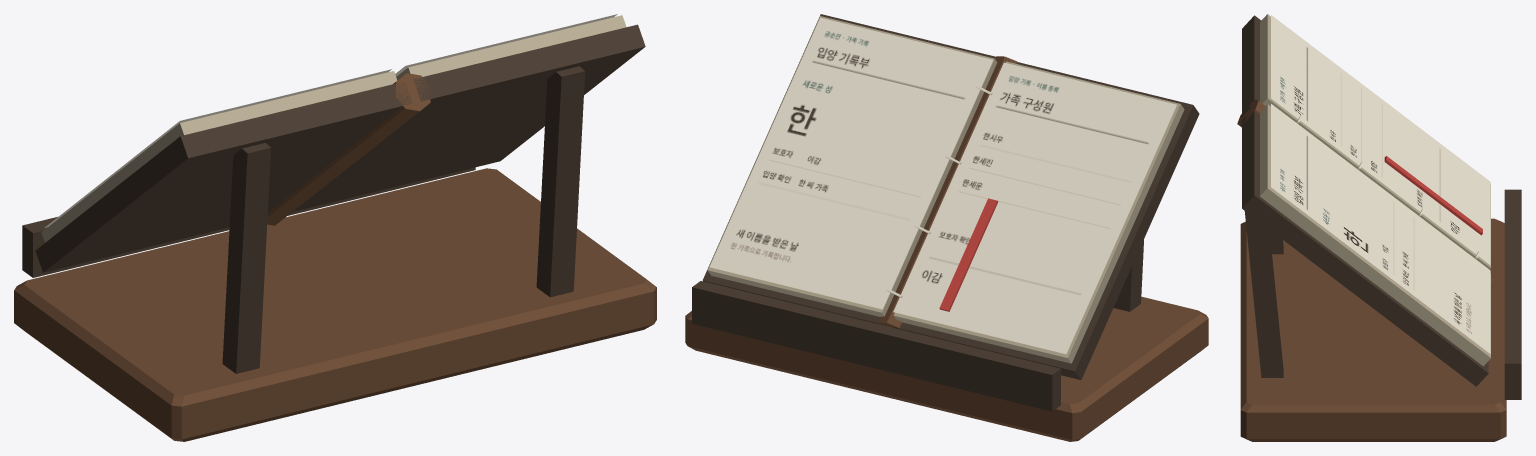
File: C05_Han_Family_Adoption_Ledger.fbx
The picture shows the model from 3 angles, left to right: view 1: azimuth 30°, elevation 25°; view 2: azimuth 150°, elevation 25°; view 3: azimuth 270°, elevation 25°; orthographic projection. The views are drawn at different scales.
Parts seen in each view (by area): view 1: Book_Rest, Ledger_Covers, Ledger_Binding, Front_Adoption_Right, Front_Adoption_Left; view 2: Front_Adoption_Left, Front_Adoption_Right, Book_Rest, Ledger_Covers, Ledger_Binding; view 3: Book_Rest, Front_Adoption_Left, Front_Adoption_Right, Ledger_Covers, Ledger_Binding.
Boxes of the visible parts, box(x1,y1,x2,y2) form: Book_Rest: box(14, 66, 656, 441); Ledger_Covers: box(35, 15, 645, 272); Ledger_Binding: box(267, 73, 430, 225); Front_Adoption_Right: box(44, 69, 391, 227); Front_Adoption_Left: box(395, 14, 617, 76); Front_Adoption_Left: box(710, 17, 993, 309); Front_Adoption_Right: box(893, 62, 1176, 353); Book_Rest: box(685, 240, 1208, 441); Ledger_Covers: box(702, 14, 1199, 379); Ledger_Binding: box(878, 56, 1017, 328); Book_Rest: box(1240, 189, 1521, 441); Front_Adoption_Left: box(1271, 104, 1490, 353); Front_Adoption_Right: box(1271, 15, 1490, 264); Ledger_Covers: box(1242, 14, 1490, 386); Ledger_Binding: box(1237, 99, 1492, 283).
Bounding box in the file's own units: 0.68 × 0.4117 × 0.4281.
Materials: 6 (1 with a texture image).
